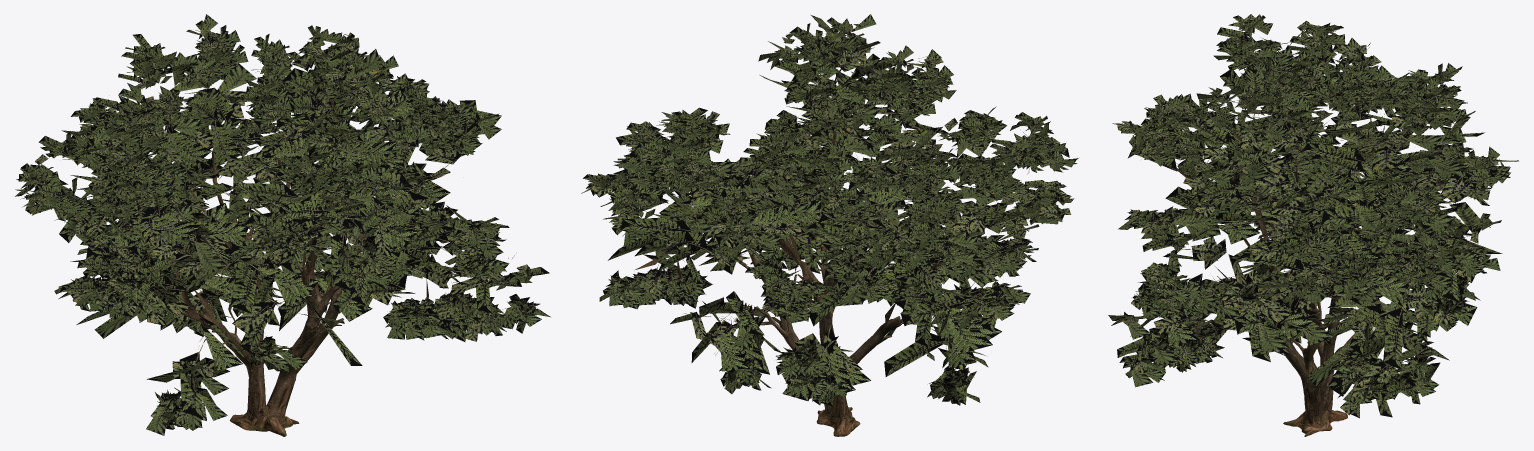
Rendered from jacaranda_tree_lod1.glb.
3 views of the same model, side by side, from view 1: azimuth 30°, elevation 25°; view 2: azimuth 150°, elevation 25°; view 3: azimuth 270°, elevation 25° (orthographic). The views are drawn at different scales.
Visible parts, largest first — view 1: jacaranda_tree_LOD0; view 2: jacaranda_tree_LOD0; view 3: jacaranda_tree_LOD0.
Boxes of the visible parts, x1,y1,x2,y2 form: jacaranda_tree_LOD0: (15,14,550,436); jacaranda_tree_LOD0: (581,14,1078,436); jacaranda_tree_LOD0: (1108,14,1518,436).
Size of the model in its own units: 24.9 by 19.61 by 19.37.
3 materials, 3 textured.
